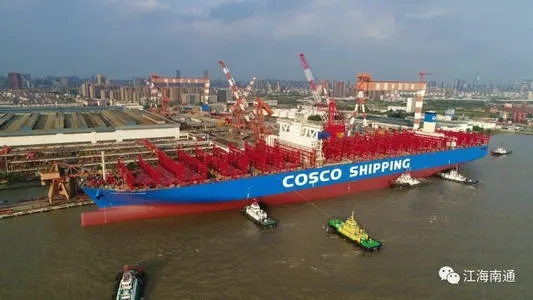Cargoship: (81, 91, 492, 214)
otherboat: (326, 209, 383, 252), (111, 264, 148, 300), (240, 196, 279, 229), (438, 163, 481, 186), (389, 169, 432, 190), (488, 143, 515, 156)
